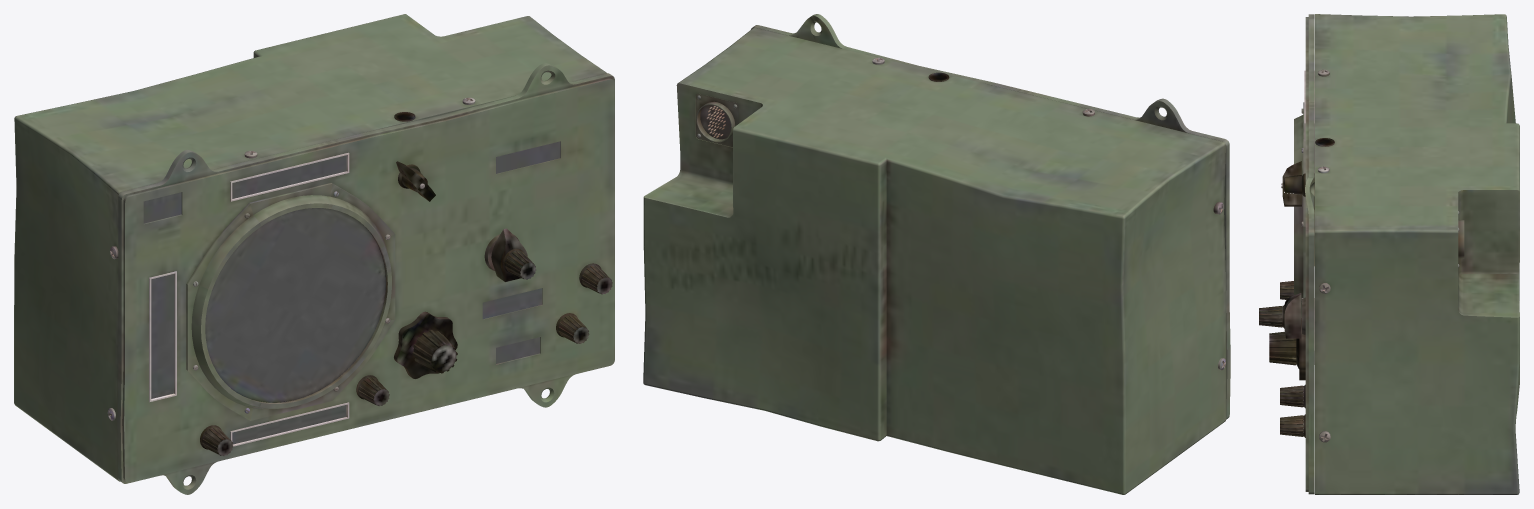
The picture shows the model from 3 angles, left to right: view 1: azimuth 30°, elevation 25°; view 2: azimuth 150°, elevation 25°; view 3: azimuth 270°, elevation 25°; orthographic projection. The views are drawn at different scales.
Parts seen in each view (by area): view 1: vintage_spacecraft_instrument; view 2: vintage_spacecraft_instrument; view 3: vintage_spacecraft_instrument.
Boxes of the visible parts, <box> form: vintage_spacecraft_instrument: <box>14,14,614,494</box>; vintage_spacecraft_instrument: <box>643,14,1230,494</box>; vintage_spacecraft_instrument: <box>1259,14,1519,494</box>.
Bounding box in the file's own units: 0.4103 × 0.2693 × 0.2044.
2 materials, 2 textured.
